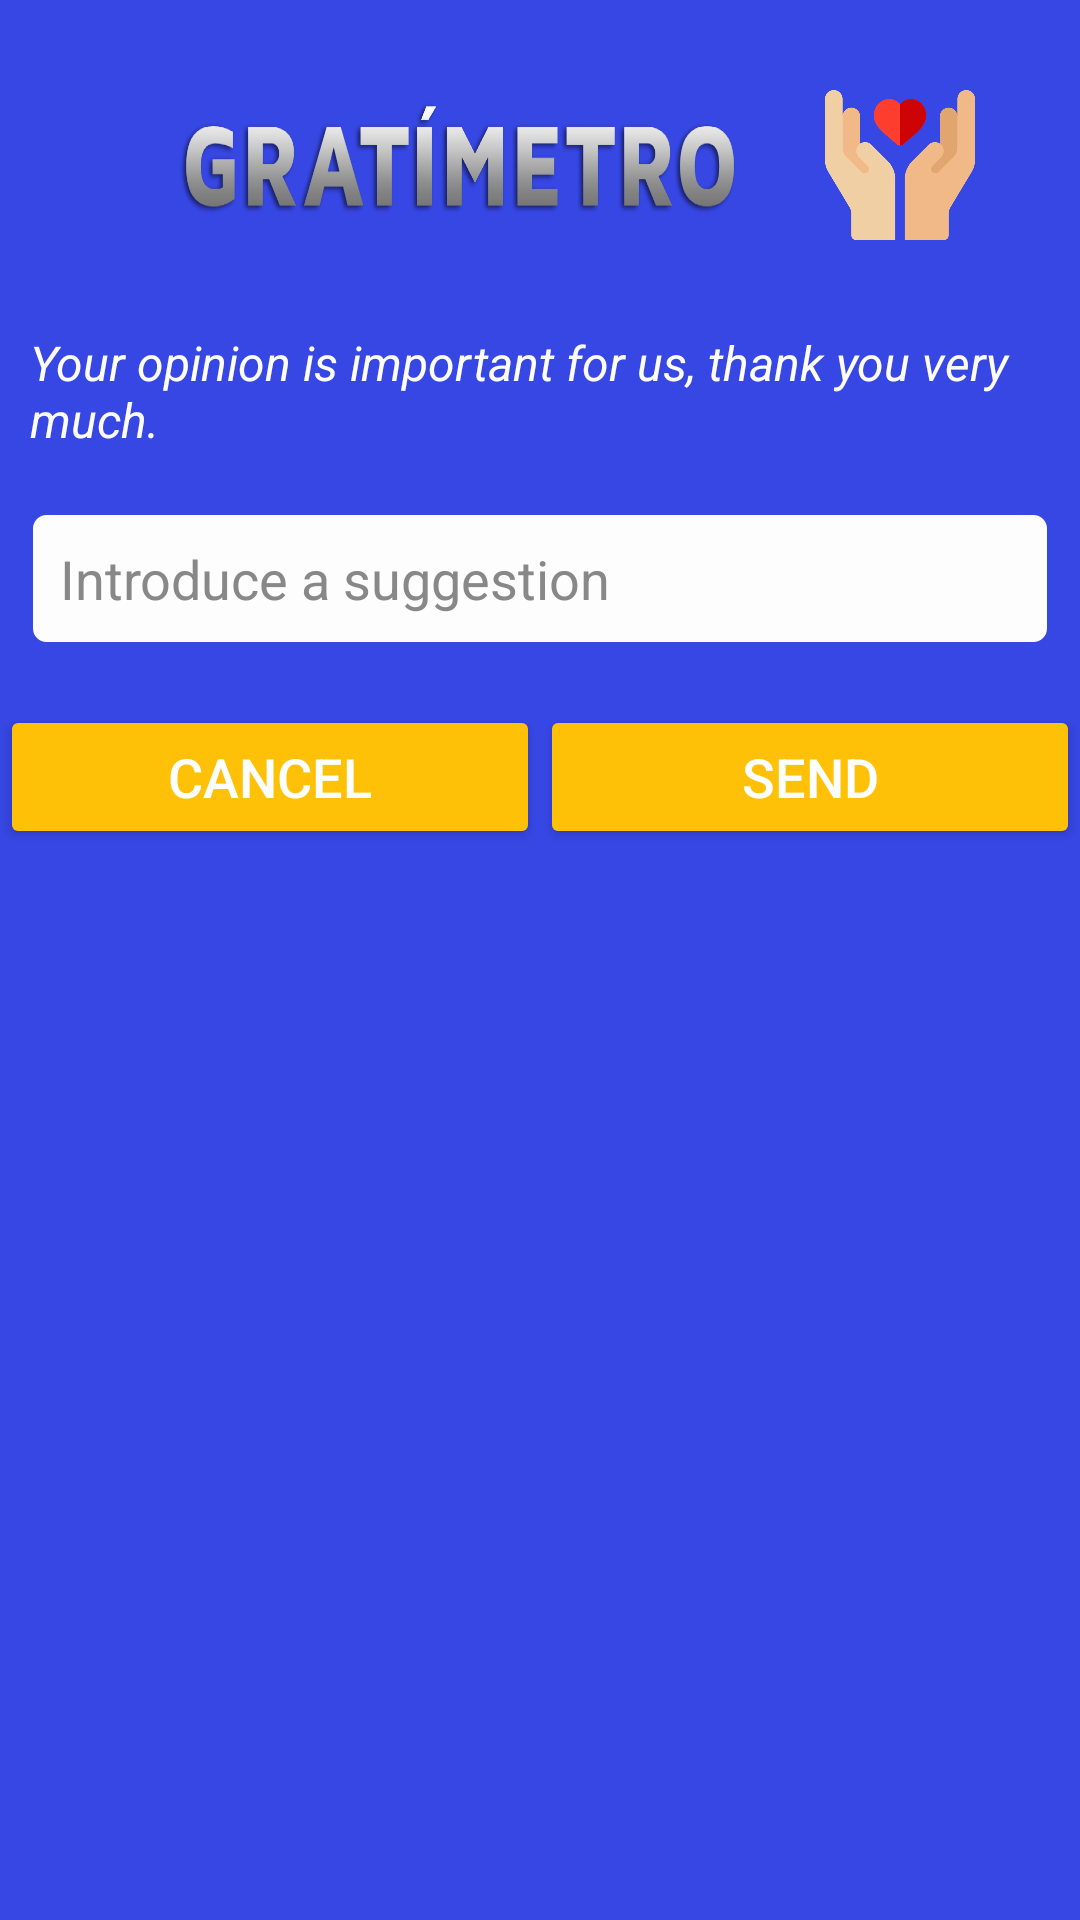

Named icons in this screenshot (1080px x 1920px) and their centers, point (x, y):
hands: point (900, 165)
